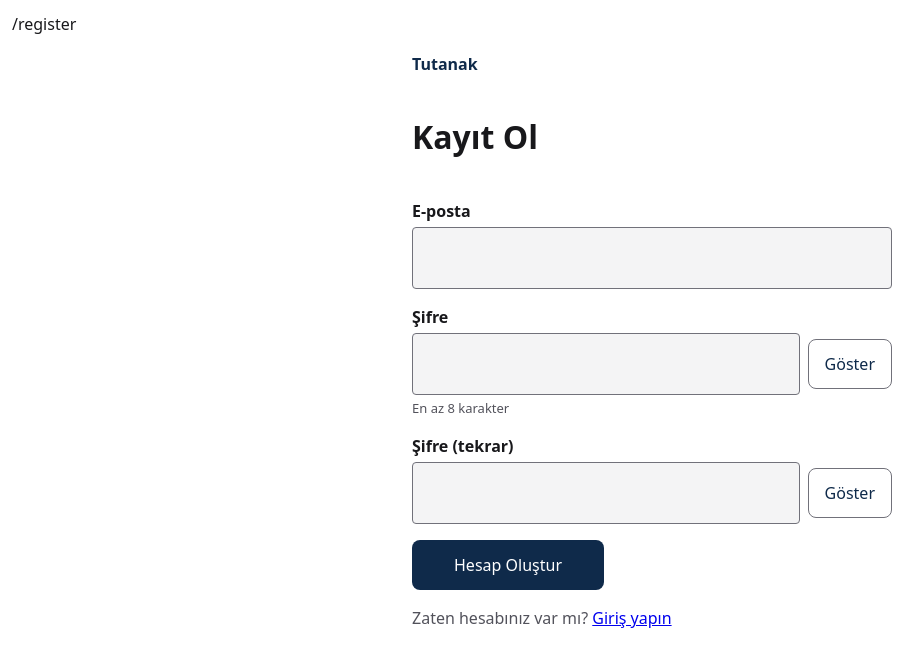
Test: RegisterPage › basarili kayit (kriter 8) › otomatik giris YAPMAZ (token saklanmaz)
Type "selin@ornek.com" into the field labelled "E-posta" at (652, 258), box [412,227,892,289]
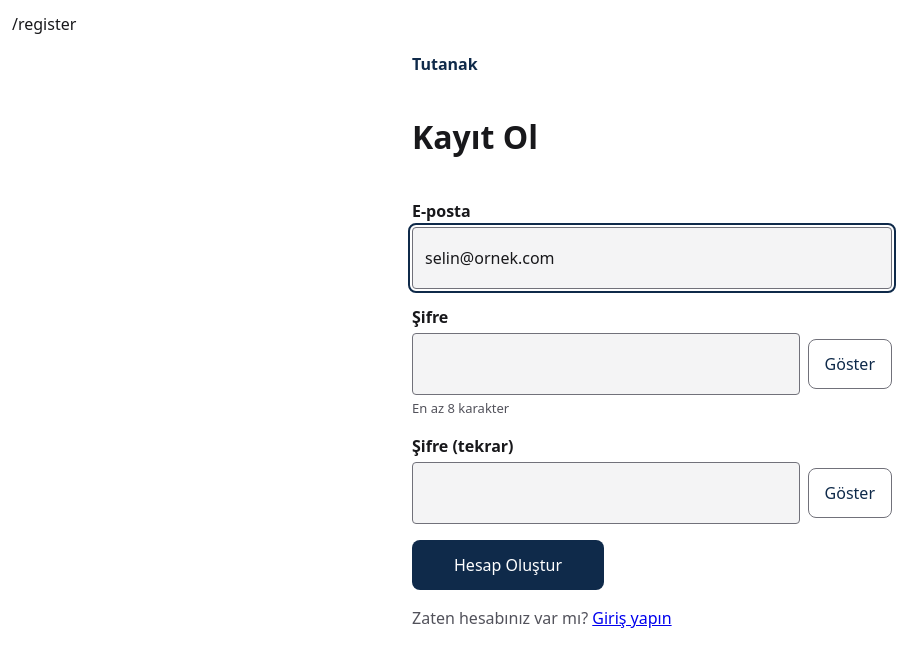
Type "cok-gizli-8" into the password field labelled "Şifre" at (606, 364), box [412,333,800,395]
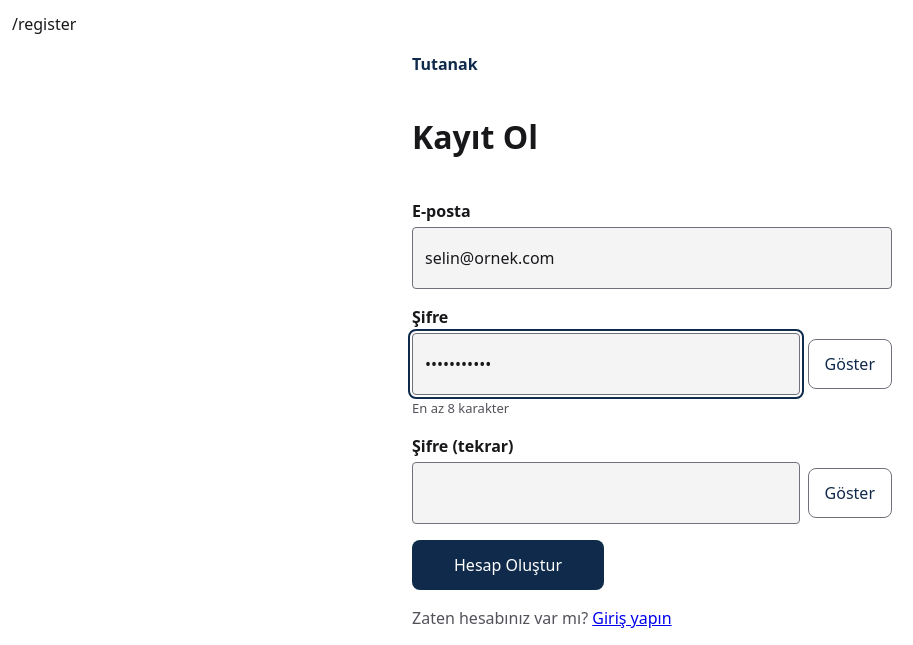
Type "cok-gizli-8" into the password field labelled "Şifre (tekrar)" at (606, 493), box [412,462,800,524]
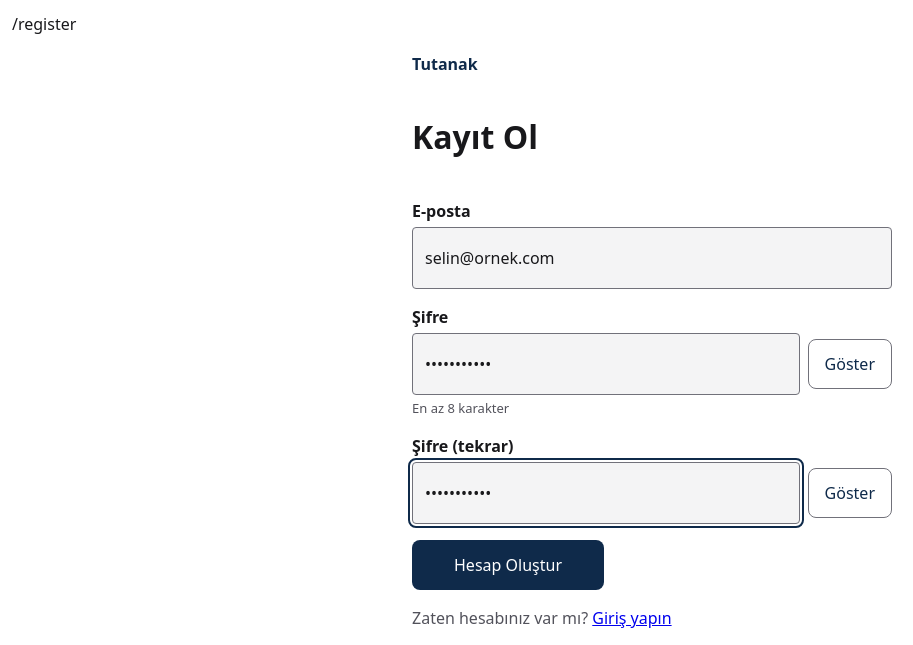
Click the button "Hesap Oluştur" at (508, 565), box [412,540,604,590]
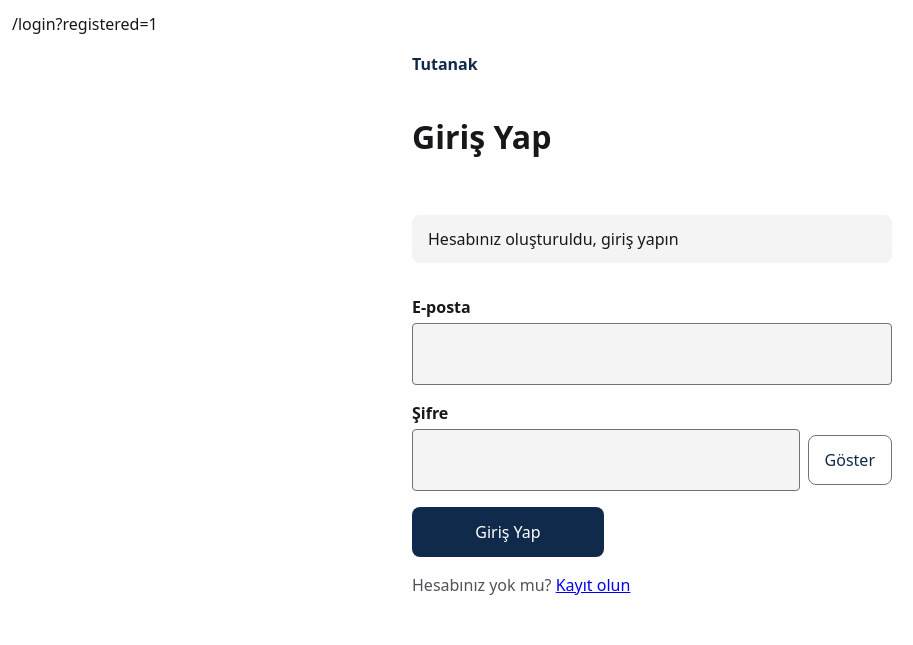
Check: the text with test id "konum" shows "/login", box [12,13,158,35]
